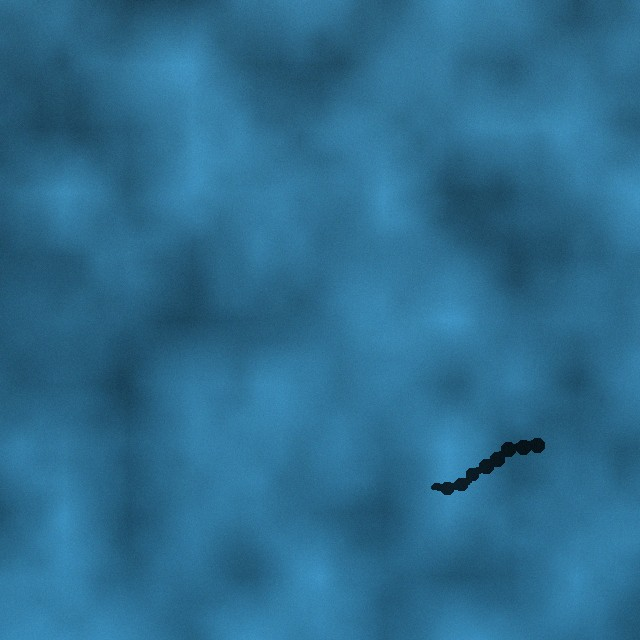crack: (426, 436, 544, 495)
